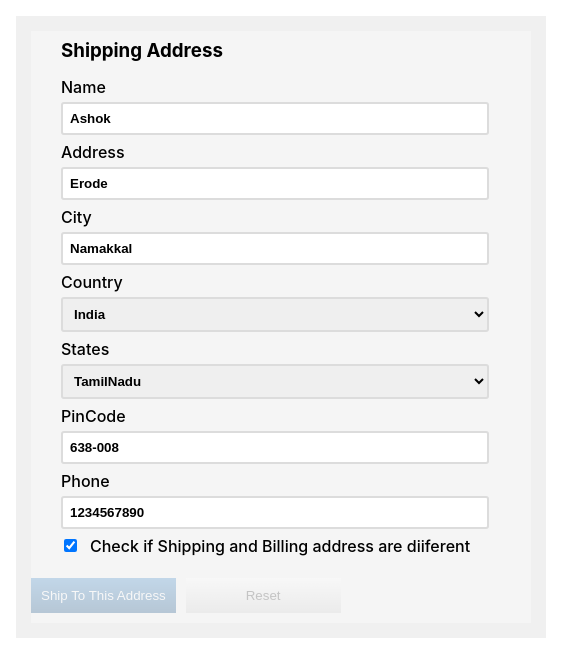
Test: Testing Form › check reset button
Replace the text in the field below "Name" with "Ashokkumar" at (275, 118), box 61,102 -> 488,135
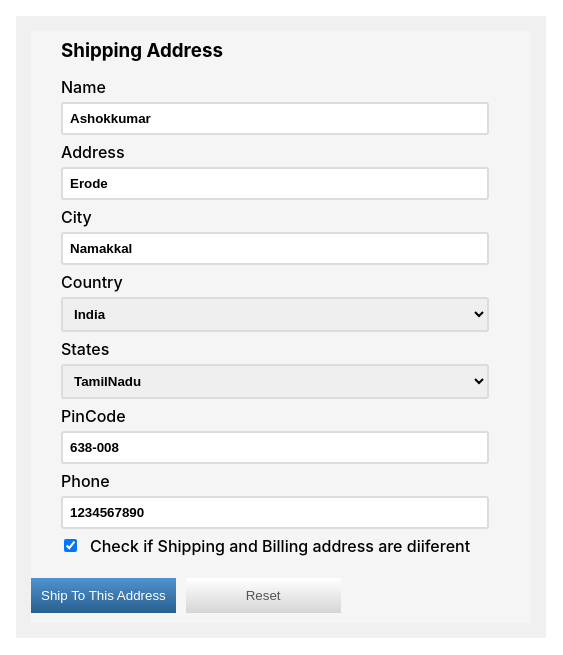
Click the reset button at (263, 596), box 186,578 -> 340,613
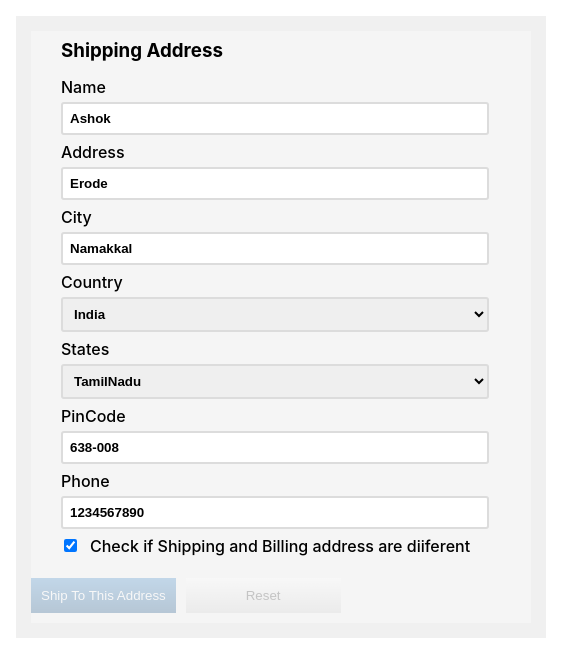
Now the field below "Name" holds "Ashok", box 61,102 -> 488,135
